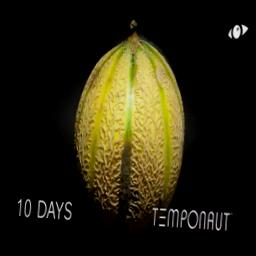Melon Ripe: (62, 14, 195, 232)
